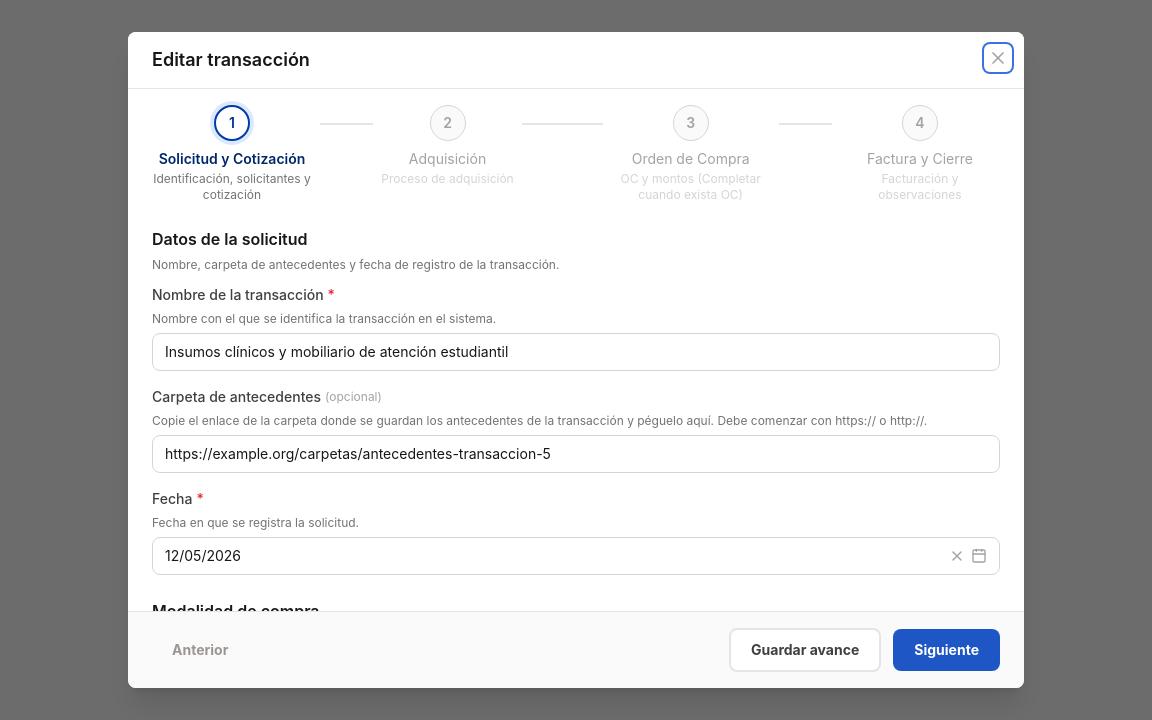
TransaccionEditModal en el paso Adquisición › exige la observacion cuando el resultado elegido la requiere
This screenshot has width=1152, height=720.
Click the button named "Paso 2: Adquisición" at coordinates (448, 123), box top-left (430, 105), bottom-right (466, 141)
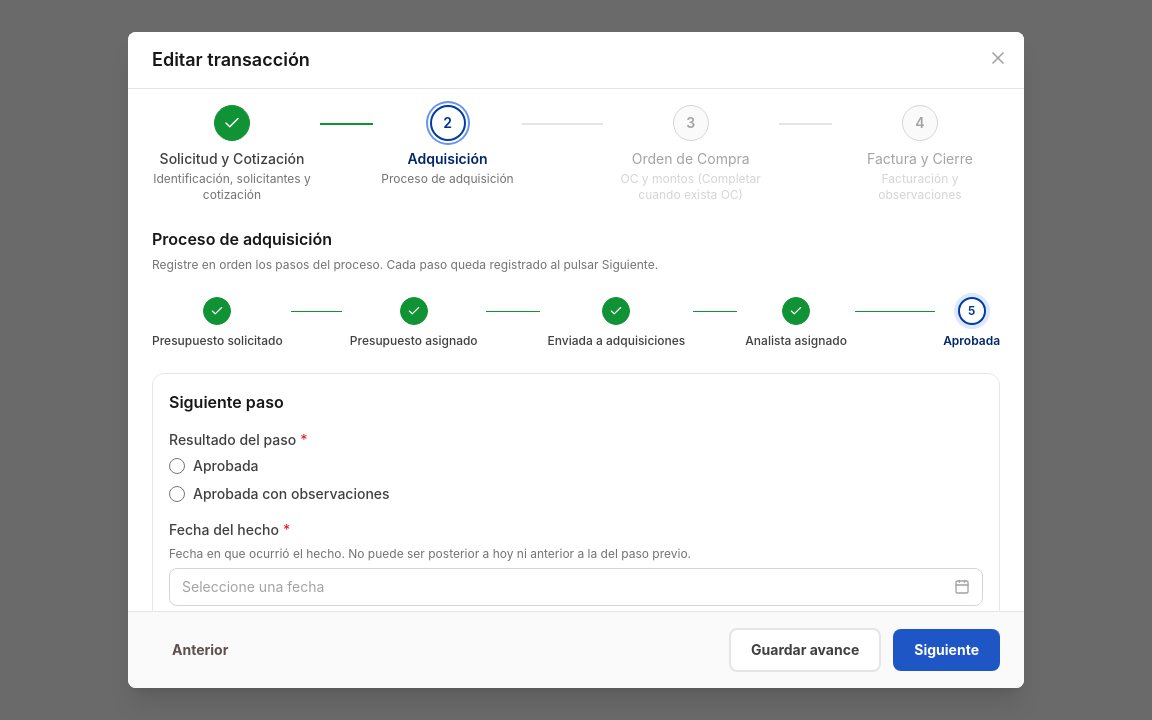
Click the radio button labelled "Aprobada con observaciones" at coordinates (177, 494), box top-left (169, 486), bottom-right (185, 502)
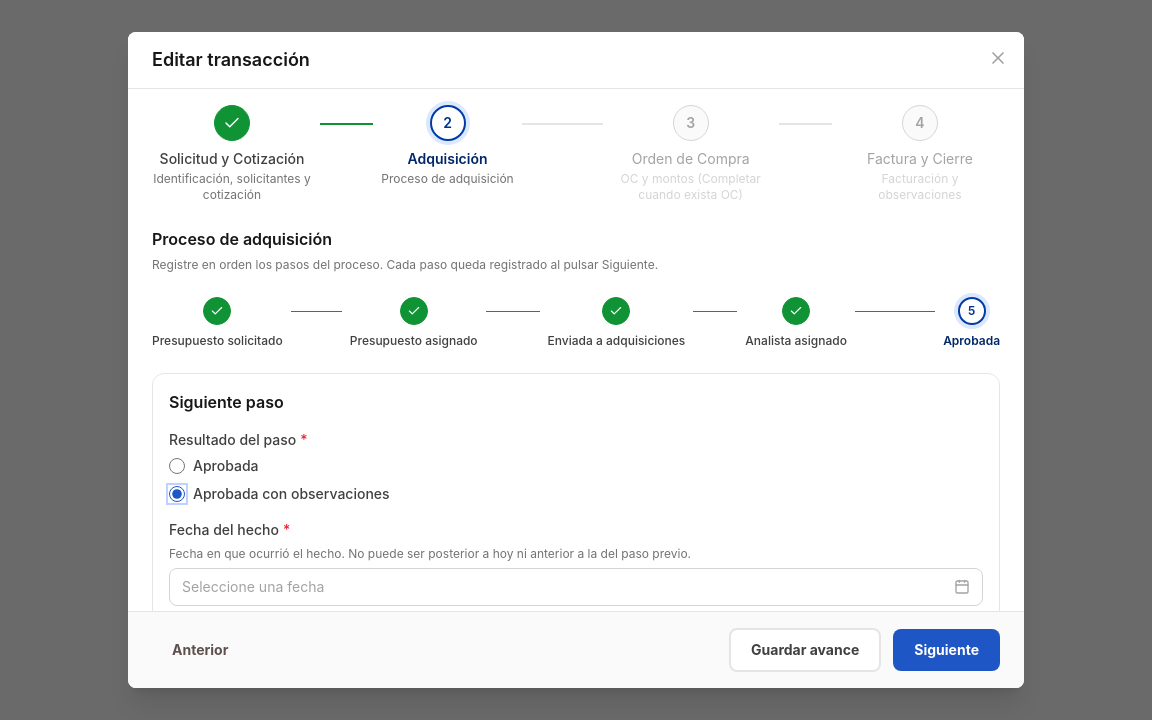
Click the button "Siguiente" at coordinates (947, 650), box top-left (893, 629), bottom-right (1000, 671)
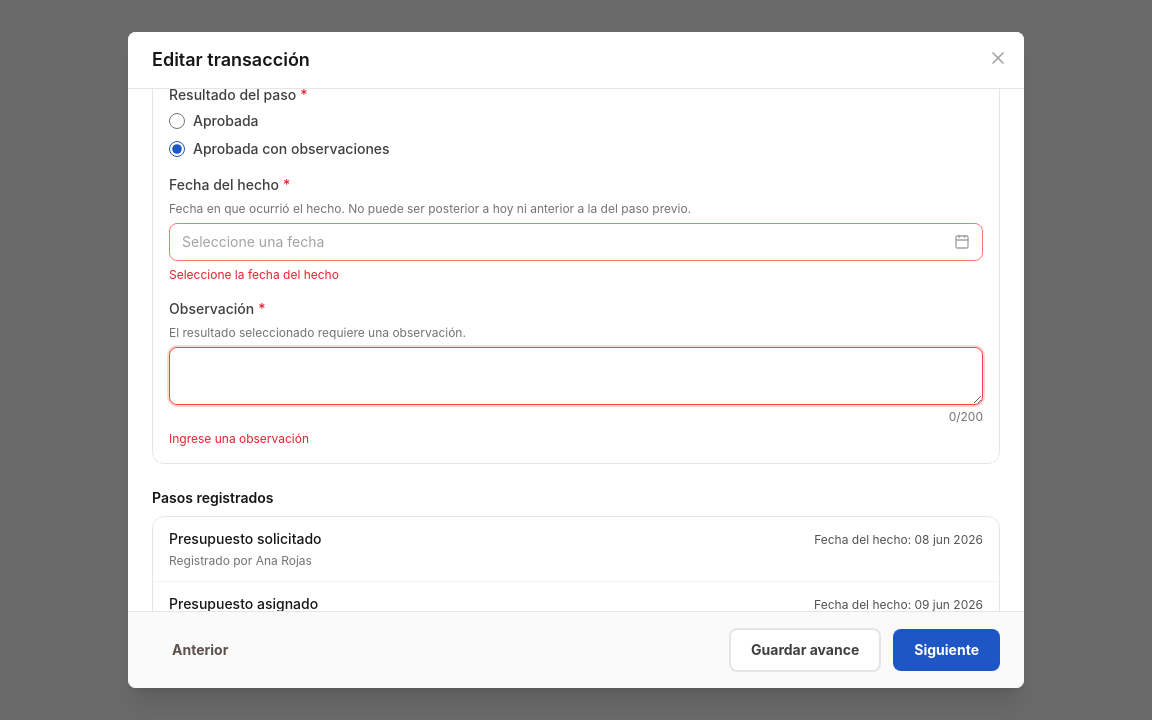
Check: the text "Ingrese una observación" is shown, box top-left (169, 431), bottom-right (309, 446)
